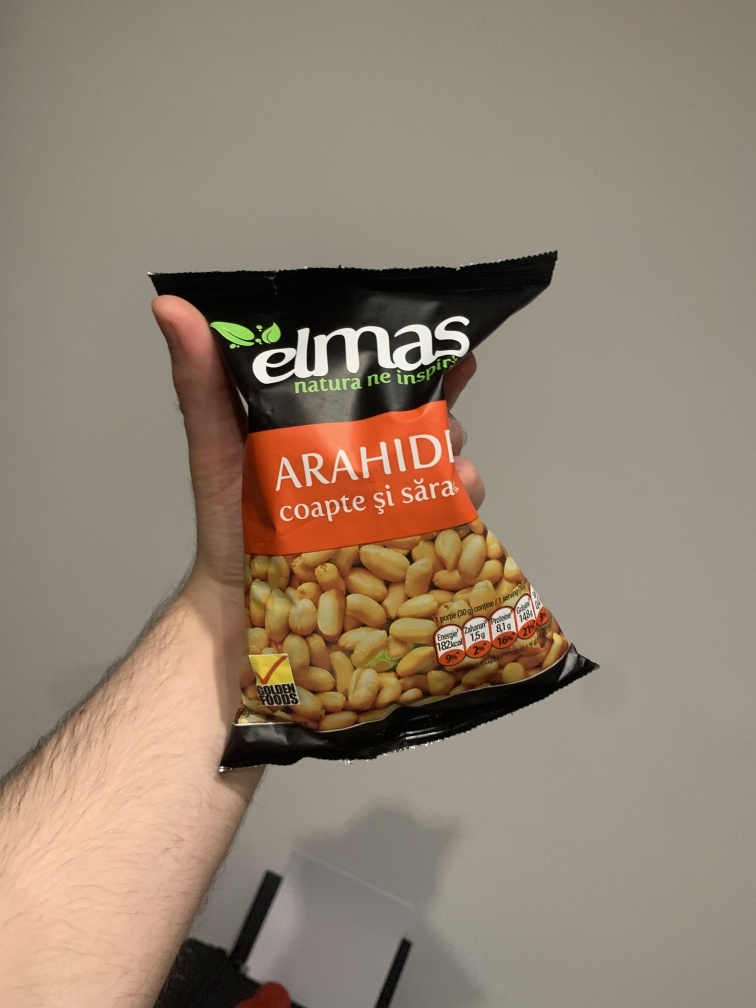peanuts: (145, 248, 614, 775)
